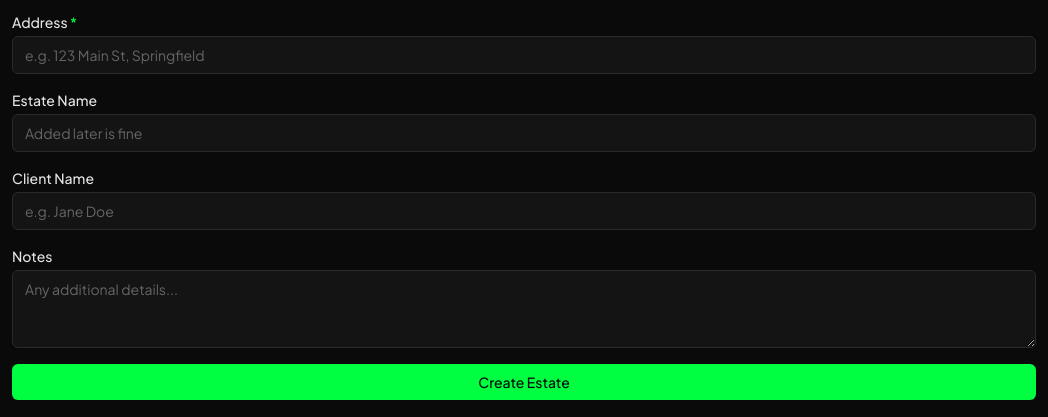
Test: CreateEstateForm › disables button while submitting
Type "Test" into the field labelled "Estate Name".
click(524, 133); type("Test")  # box [12,114,1036,152]
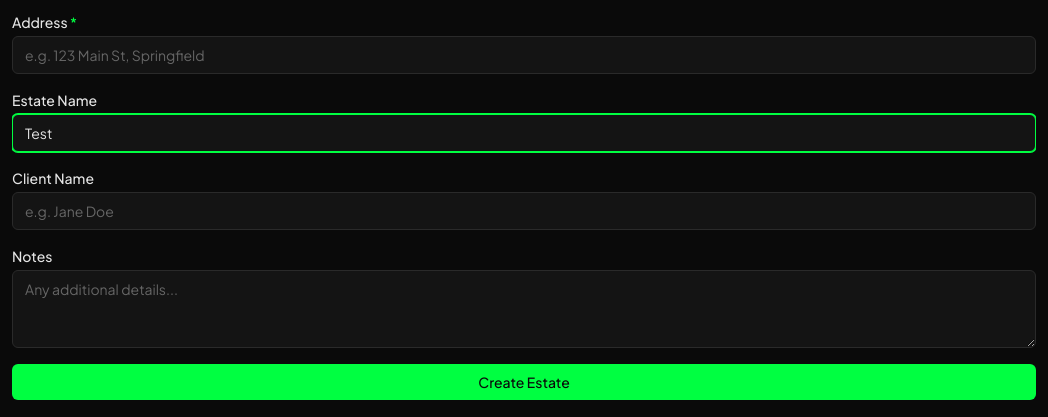
Type "123 St" into the field labelled "Address *".
click(524, 55); type("123 St")  # box [12,36,1036,74]
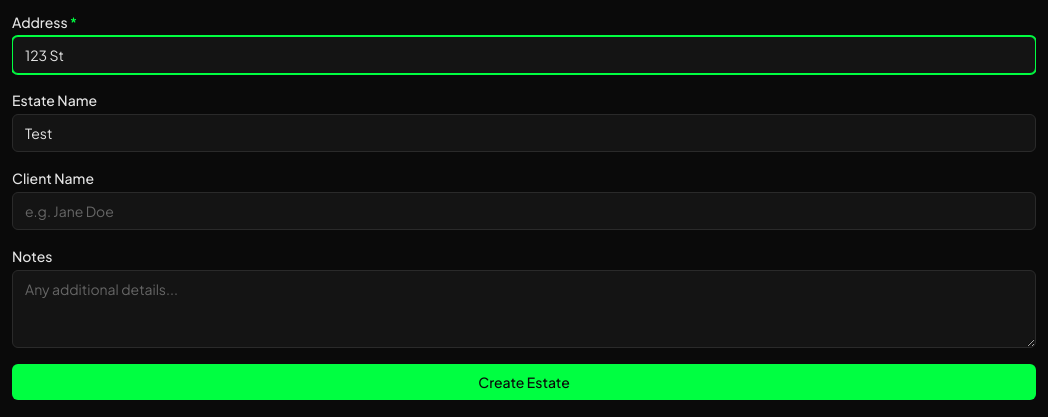
Click the button "Create Estate".
click(524, 382)  # box [12,364,1036,400]
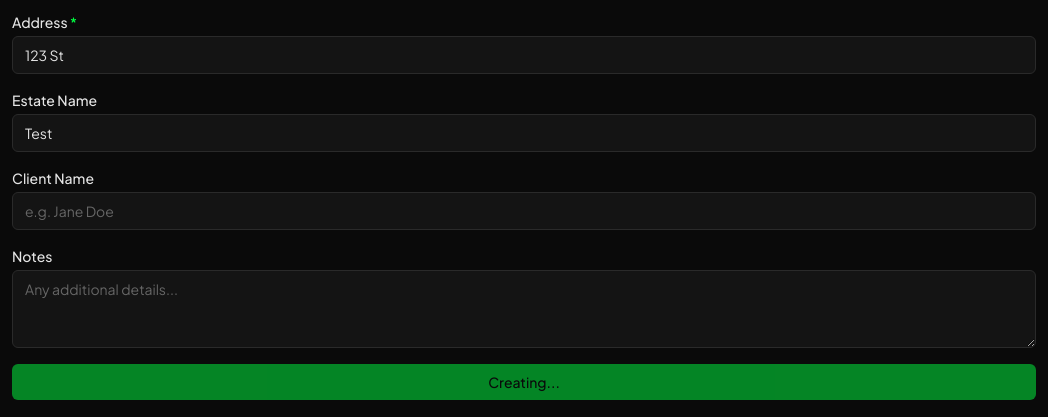
Now the button is disabled, box [12,364,1036,400]
